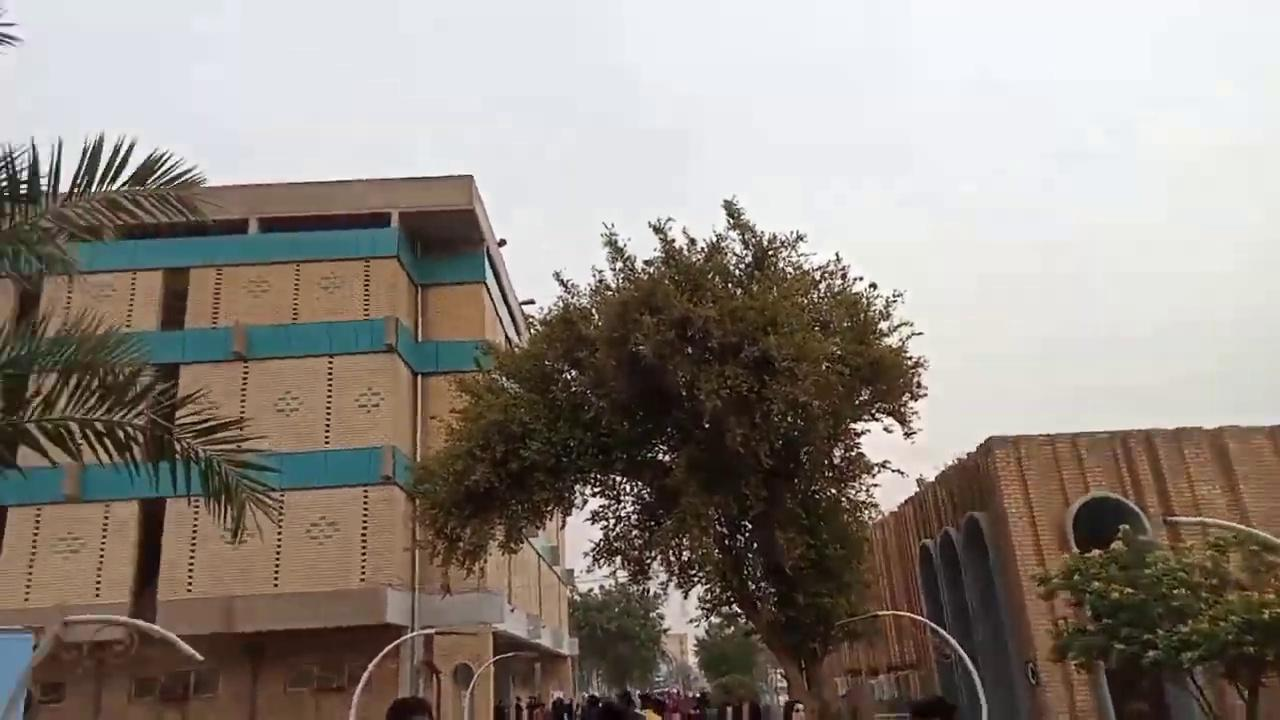person: (906, 694, 957, 719), (384, 696, 434, 719), (792, 702, 805, 719)
tree: (408, 193, 931, 718), (0, 4, 284, 633), (1030, 518, 1278, 718), (567, 579, 670, 700), (692, 613, 768, 718)
